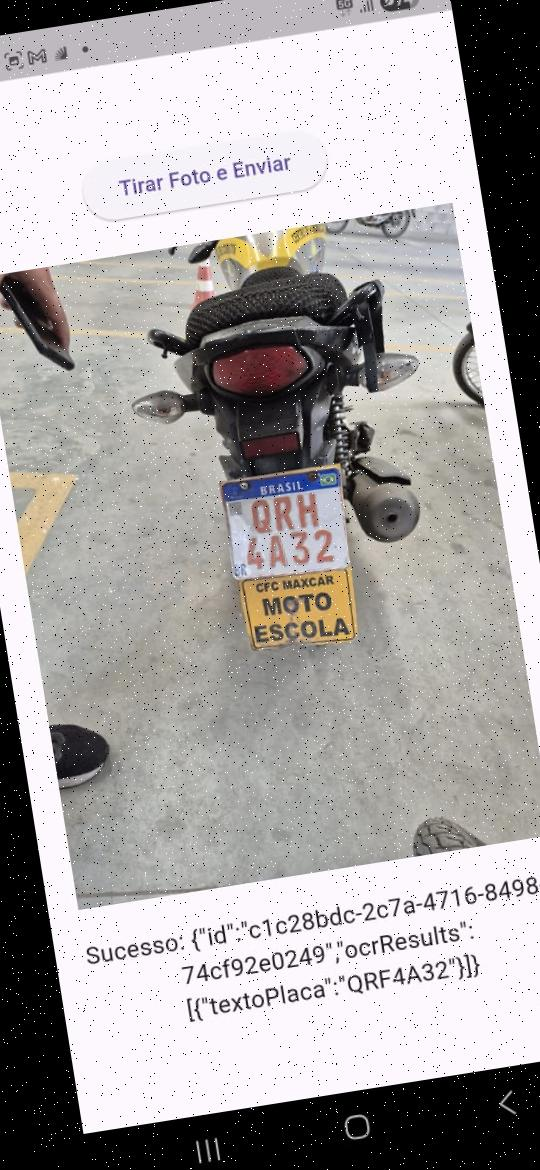placa_mercosul: (220, 465, 350, 583)
